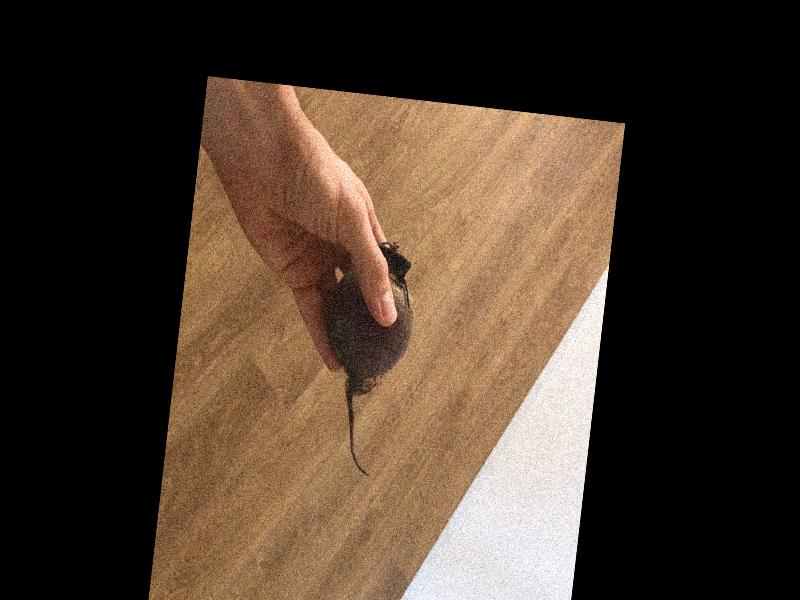Beet: (310, 236, 420, 479)
